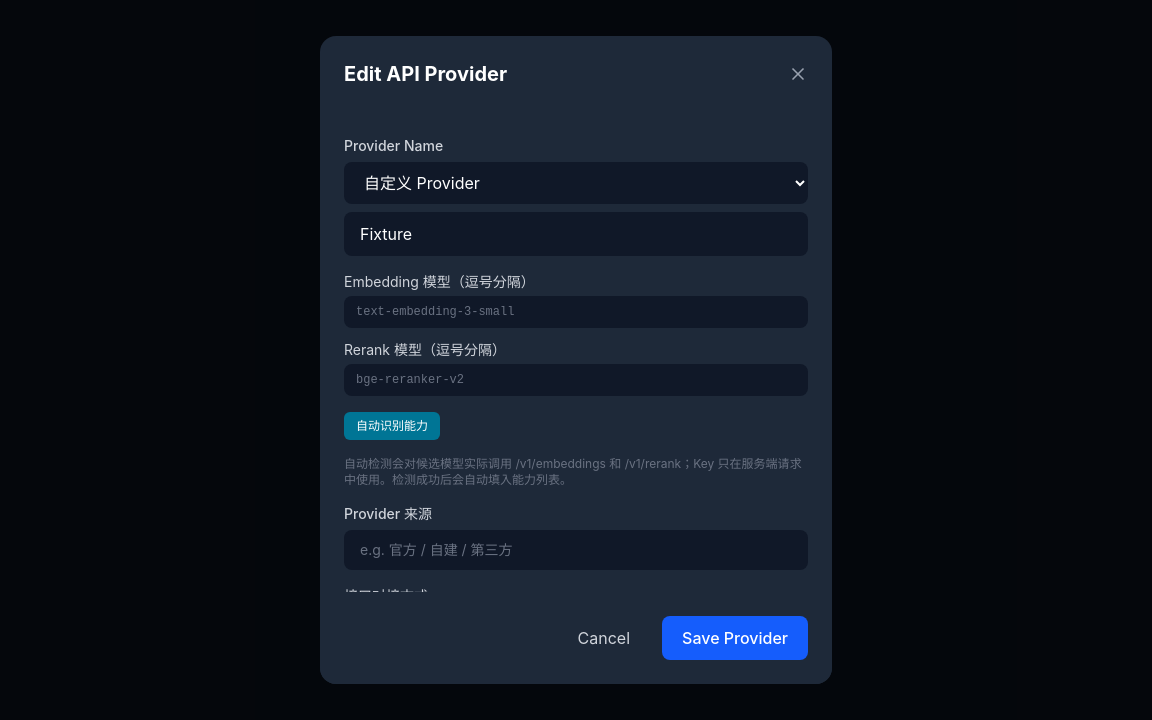
ConfigModal provider capability detection › fills verified embedding and rerank models from the provider probe
The image size is (1152, 720).
Click the button "自动识别能力" at (392, 426), box [344,412,440,440]
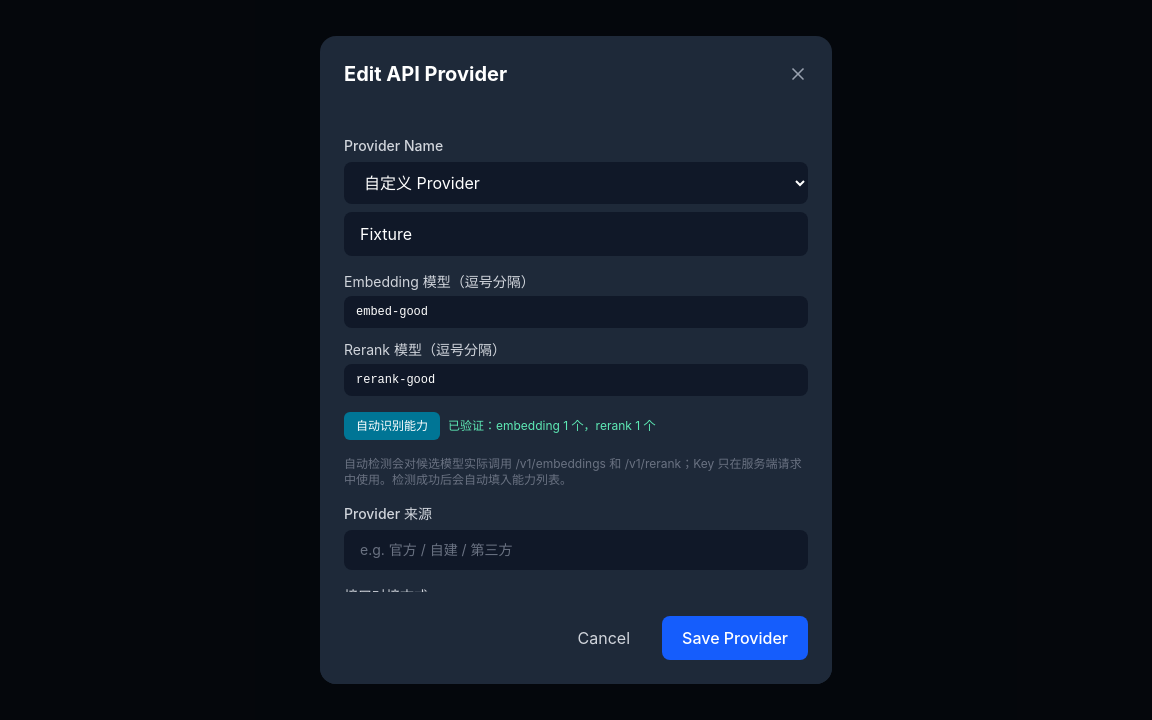
Now the field with placeholder "text-embedding-3-small" holds "embed-good", box [344,296,808,328]
Now the field with placeholder "bge-reranker-v2" holds "rerank-good", box [344,364,808,396]
